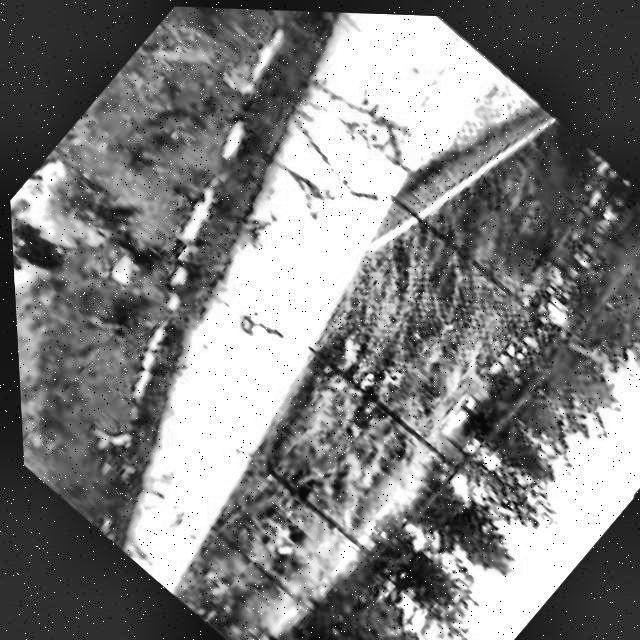Fire: (7, 172, 115, 324)
